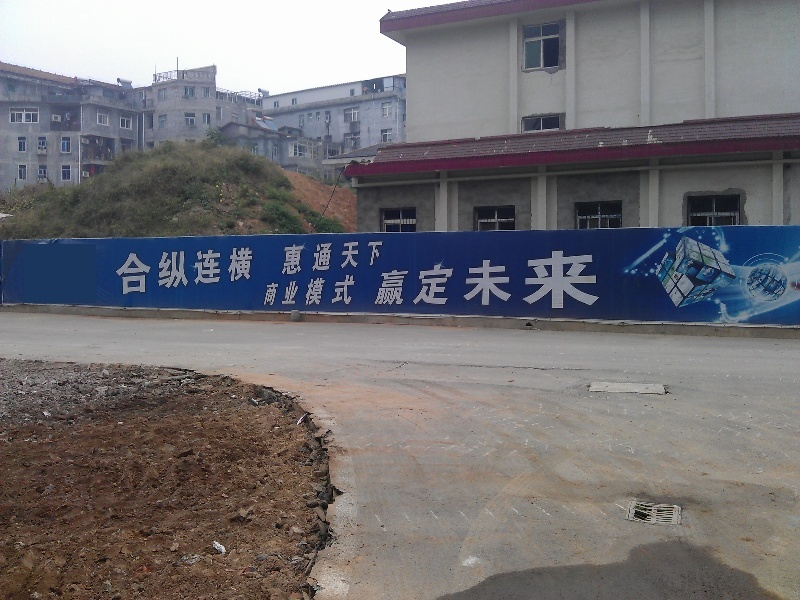text: (385, 248, 400, 311), (401, 248, 416, 311), (417, 248, 432, 311), (433, 248, 448, 311), (449, 248, 464, 311), (465, 248, 480, 311), (481, 248, 496, 311), (497, 248, 512, 311), (513, 248, 528, 311), (529, 248, 544, 311), (545, 248, 560, 311), (561, 248, 576, 311), (577, 248, 592, 311), (593, 248, 606, 311), (129, 248, 144, 299), (145, 248, 160, 299), (161, 248, 176, 299), (177, 248, 192, 299), (193, 248, 208, 299), (209, 248, 224, 299), (225, 248, 240, 299), (241, 248, 254, 299), (369, 238, 385, 277), (289, 238, 304, 277), (305, 238, 320, 277), (321, 238, 336, 277), (337, 238, 352, 277), (353, 238, 368, 277), (118, 248, 128, 299), (273, 274, 288, 306), (289, 274, 304, 306), (305, 274, 320, 306), (321, 274, 336, 306), (337, 274, 352, 306), (279, 238, 288, 277), (380, 248, 384, 311), (353, 274, 360, 306), (266, 274, 272, 306)
